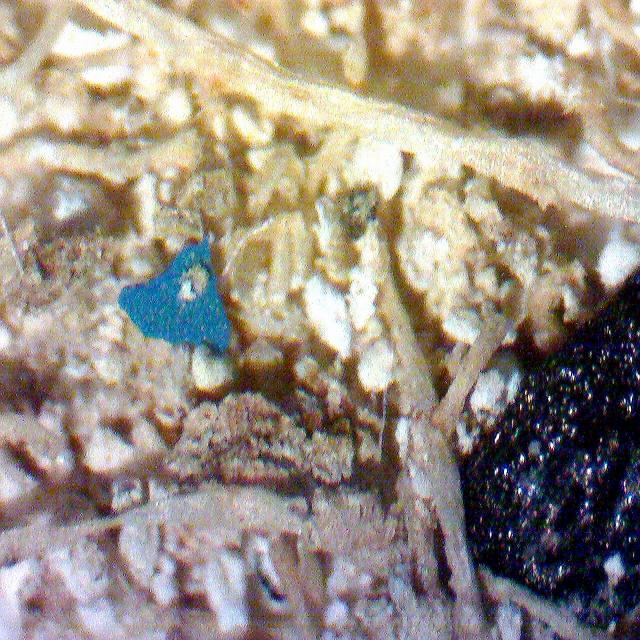microplastic: (118, 236, 233, 354)
